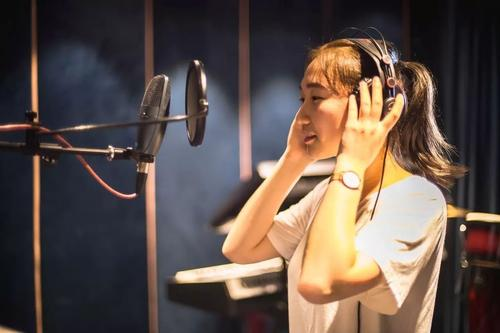no_mask: (292, 28, 412, 164)
